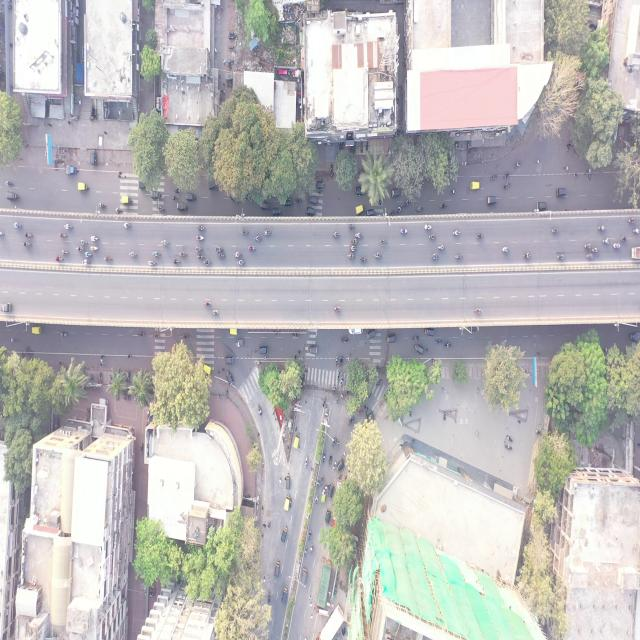3W: (315, 179, 327, 191), (292, 434, 300, 452), (336, 458, 345, 474), (280, 526, 288, 542), (414, 344, 424, 356), (283, 495, 290, 511), (536, 201, 547, 211), (6, 190, 17, 200), (175, 202, 188, 210), (78, 181, 88, 191), (354, 186, 364, 196), (208, 180, 218, 190), (66, 165, 76, 175), (122, 195, 132, 204), (470, 181, 480, 190), (355, 204, 364, 214), (366, 330, 376, 339), (150, 191, 161, 199), (31, 326, 41, 334), (138, 180, 148, 188), (556, 188, 566, 196), (272, 208, 282, 216), (386, 335, 396, 343), (308, 346, 318, 354), (310, 195, 318, 204), (425, 328, 434, 336), (186, 193, 196, 200), (285, 474, 290, 488), (91, 150, 96, 163), (366, 210, 374, 218), (306, 207, 314, 215), (326, 510, 330, 524)
M2W: (226, 370, 234, 386), (274, 560, 281, 578), (301, 568, 308, 584), (203, 297, 213, 308), (487, 196, 498, 206), (596, 224, 608, 233), (210, 308, 220, 317), (612, 241, 622, 250), (224, 355, 234, 364), (259, 345, 267, 356), (513, 158, 520, 170), (240, 227, 248, 237), (236, 258, 246, 266), (502, 244, 510, 254), (331, 436, 337, 449), (104, 255, 113, 263), (179, 250, 188, 258), (215, 244, 224, 252), (592, 244, 601, 252), (340, 336, 349, 344), (230, 328, 239, 336), (22, 240, 32, 247), (64, 223, 74, 230), (54, 256, 64, 263), (152, 250, 162, 257), (113, 208, 123, 215), (556, 253, 566, 260), (322, 450, 327, 463), (25, 231, 33, 239), (218, 250, 226, 258), (332, 232, 340, 240), (627, 216, 635, 224), (603, 236, 611, 244), (13, 222, 22, 229), (233, 250, 242, 257), (349, 238, 358, 245), (474, 307, 483, 314), (584, 240, 591, 249), (80, 239, 90, 245), (96, 202, 106, 208), (203, 259, 213, 265), (173, 258, 183, 264), (247, 246, 257, 252), (504, 172, 510, 182), (450, 186, 456, 196), (404, 198, 410, 208), (322, 396, 327, 408), (257, 405, 263, 415), (90, 245, 98, 252), (129, 250, 136, 258), (148, 259, 156, 266), (196, 234, 204, 241), (195, 246, 203, 253), (263, 229, 271, 236), (254, 234, 262, 241), (347, 223, 355, 230), (360, 257, 368, 264), (334, 305, 341, 313), (400, 228, 408, 235), (524, 252, 531, 260), (503, 182, 510, 190), (416, 205, 424, 212), (552, 226, 560, 233), (620, 234, 628, 241), (445, 341, 452, 349), (412, 334, 419, 342), (182, 332, 190, 339), (348, 246, 359, 251), (339, 355, 344, 366), (58, 232, 67, 238), (355, 233, 364, 239), (431, 253, 440, 259), (396, 205, 402, 214), (388, 207, 394, 216), (633, 226, 639, 235), (491, 172, 496, 182), (380, 239, 387, 246), (454, 253, 461, 260), (586, 252, 593, 259), (76, 246, 84, 252), (91, 236, 99, 242), (123, 222, 131, 228), (160, 239, 168, 245), (374, 252, 382, 258), (310, 544, 314, 556), (60, 250, 69, 255), (197, 226, 206, 231), (304, 457, 308, 468), (308, 530, 312, 541), (424, 223, 431, 229), (428, 235, 435, 241), (438, 243, 445, 249), (476, 232, 482, 239), (436, 338, 442, 345), (138, 331, 145, 337), (85, 252, 93, 257), (196, 255, 204, 260), (347, 253, 355, 258), (315, 492, 319, 502), (453, 230, 459, 236), (441, 202, 447, 208), (376, 380, 382, 386), (154, 332, 160, 338), (336, 355, 339, 366), (268, 591, 271, 602), (82, 260, 90, 264), (340, 376, 343, 386), (61, 332, 67, 337), (333, 386, 336, 394), (338, 370, 340, 380)
